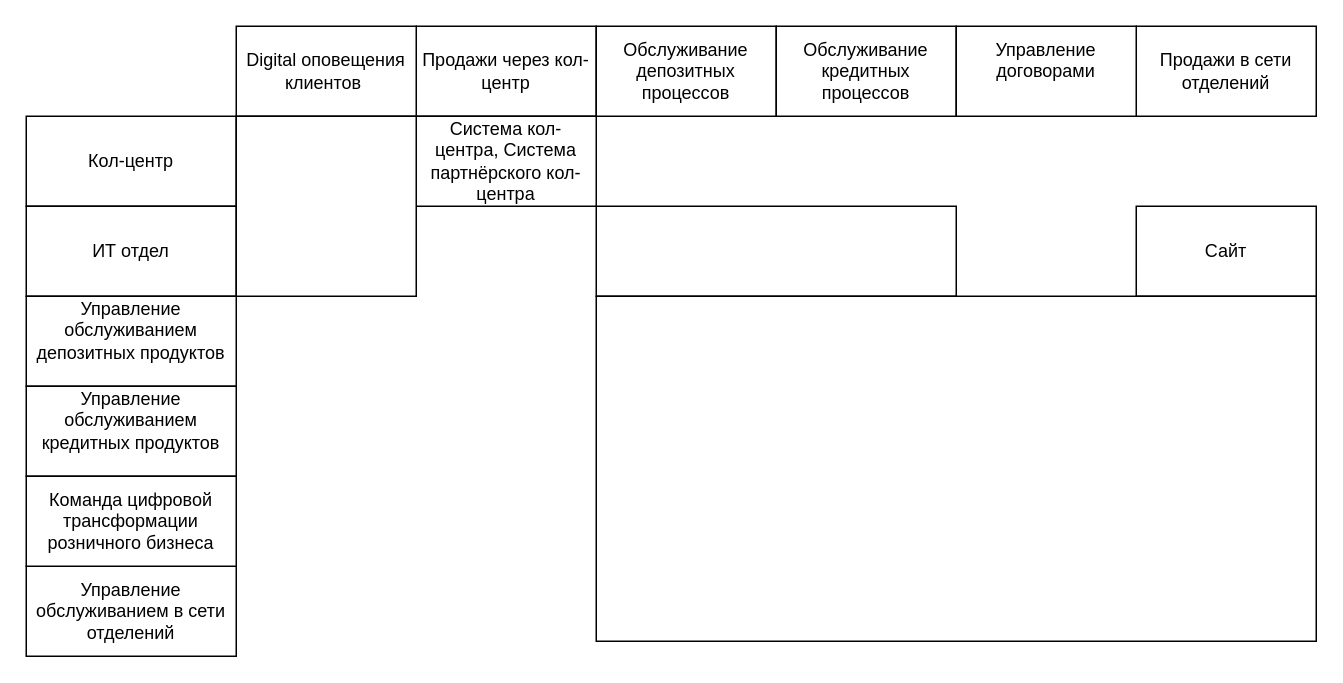
This 1343x683 diagram has some shape labels left out. The shapes that lost their labels are listed below. From the top down, each one's centre as x and y in pixels, then its label:
(325,205): СМС-шлюз телеком-оператора, Телеком-оператор
(775,250): Интернет-банк
(955,468): АБС
